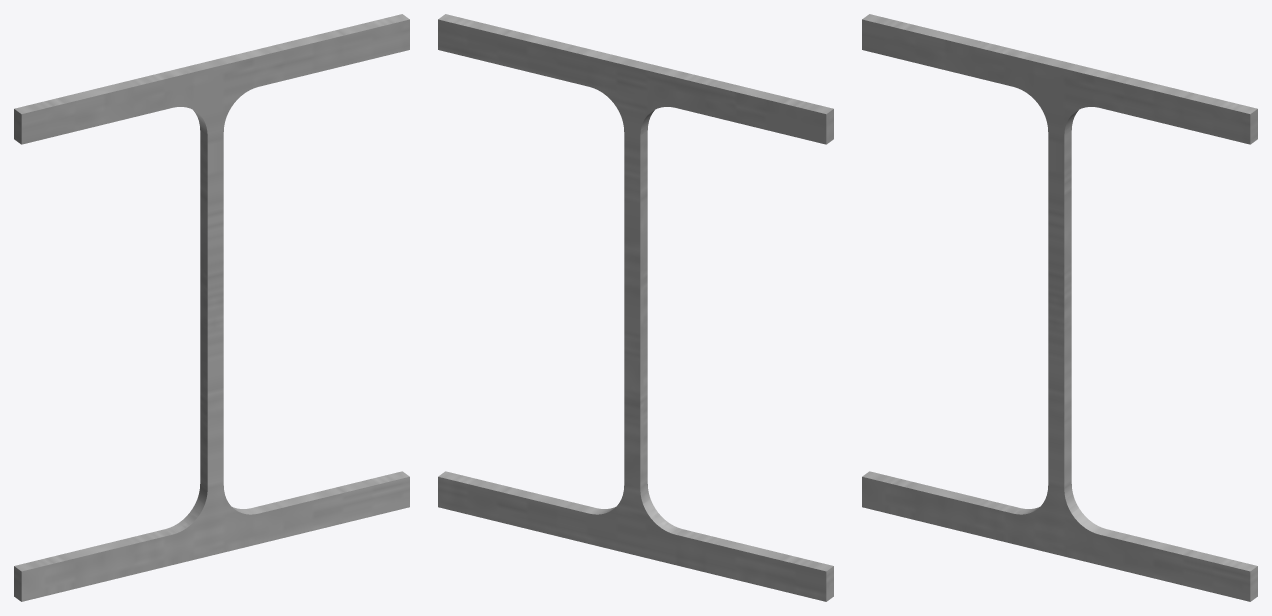
The model's file is HEB360.glb.
The picture shows the model from 3 angles, left to right: view 1: azimuth 30°, elevation 25°; view 2: azimuth 150°, elevation 25°; view 3: azimuth 330°, elevation 25°; orthographic projection.
Size of the model in its own units: 30 by 36 by 1.
Materials: 1 (1 with a texture image).
